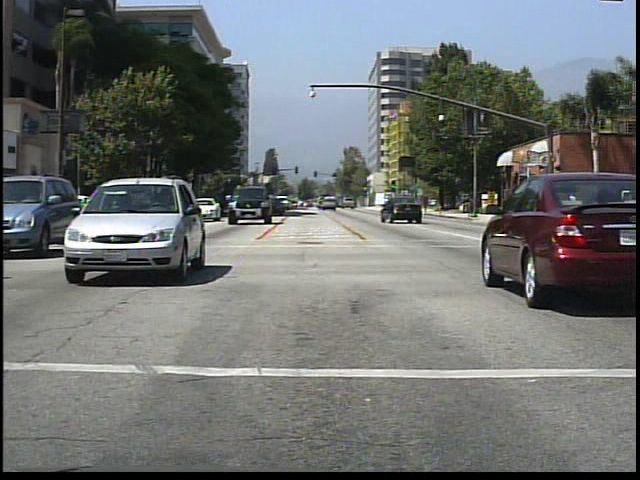person: (564, 189, 584, 234), (518, 190, 535, 227)
